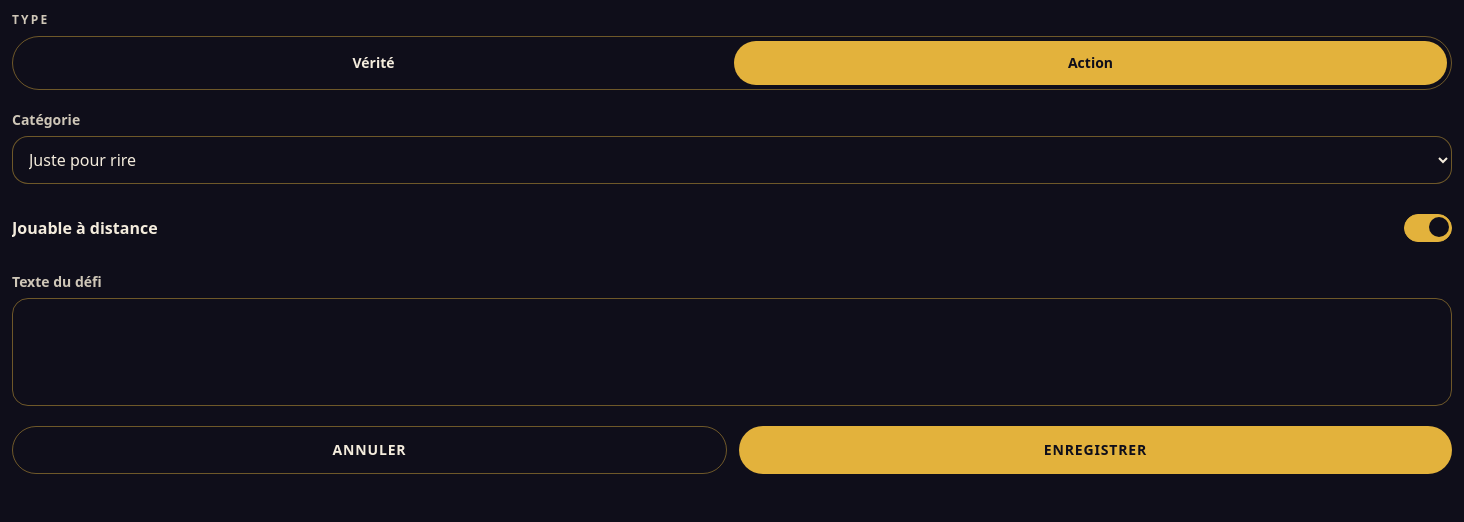
a too short text is refused with a message
This screenshot has width=1464, height=522.
Type "ab" into the text box labelled "Texte du défi" at (732, 352), box [12,298,1452,406]
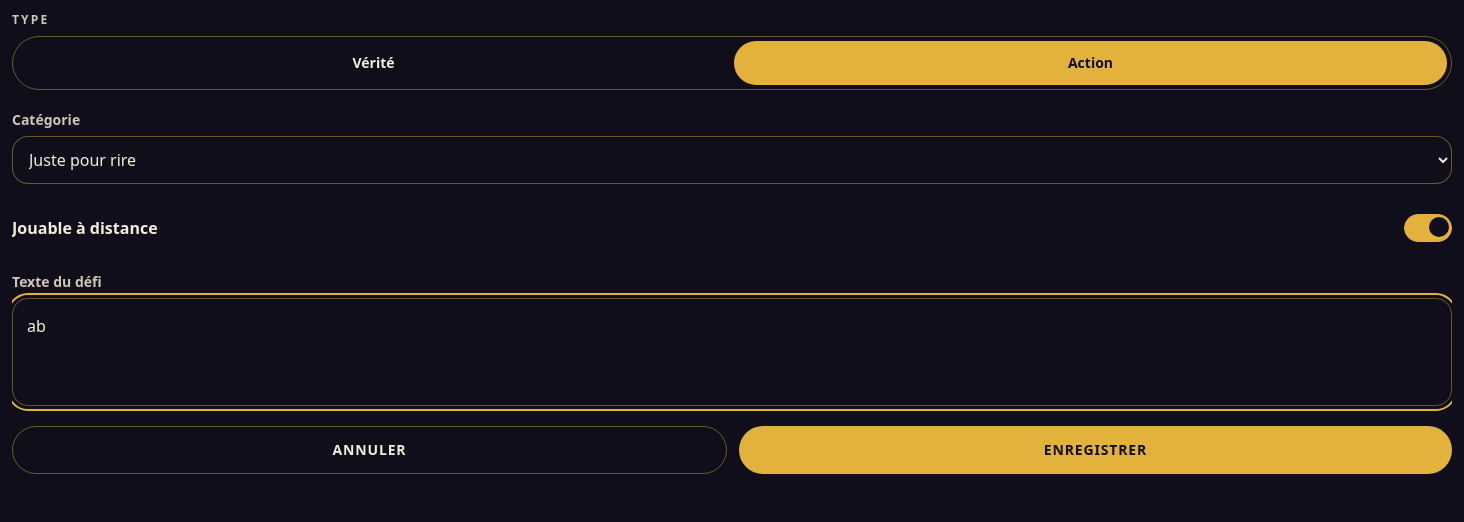
Click the button "Enregistrer" at (1096, 450), box [739,426,1452,474]
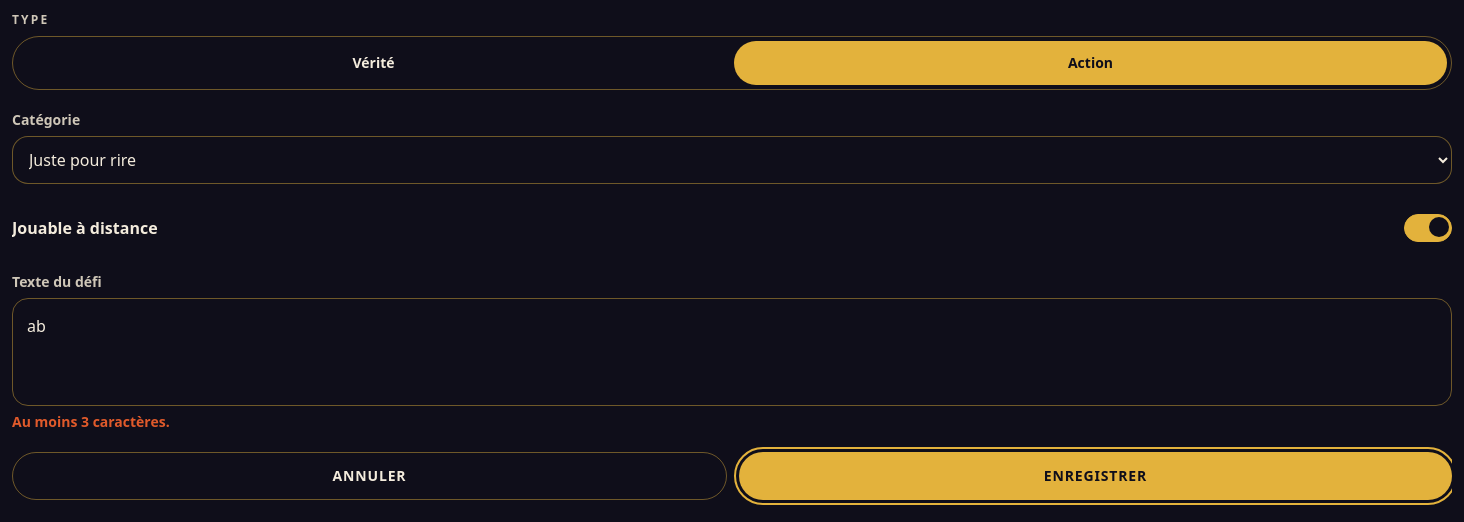
Result: the text "Au moins 3 caractères." is shown at [12,412,170,431]
